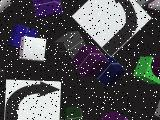Left: (72, 0, 152, 57)
Right: (4, 79, 61, 120)
